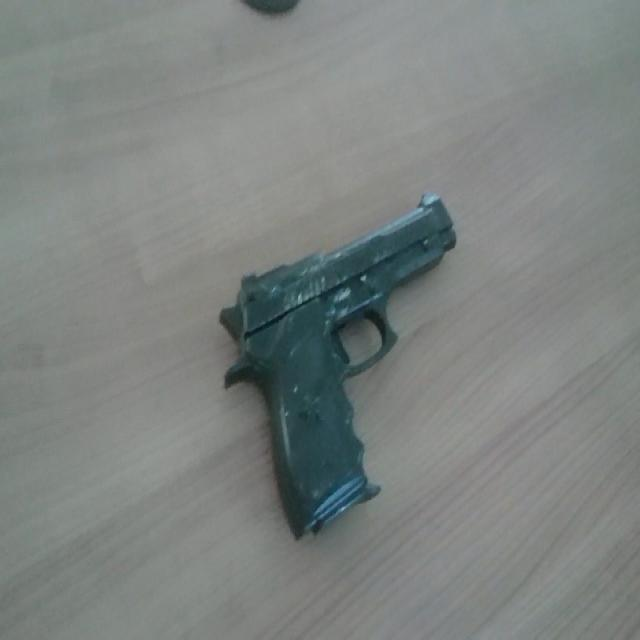handgun: (209, 210, 539, 606)
